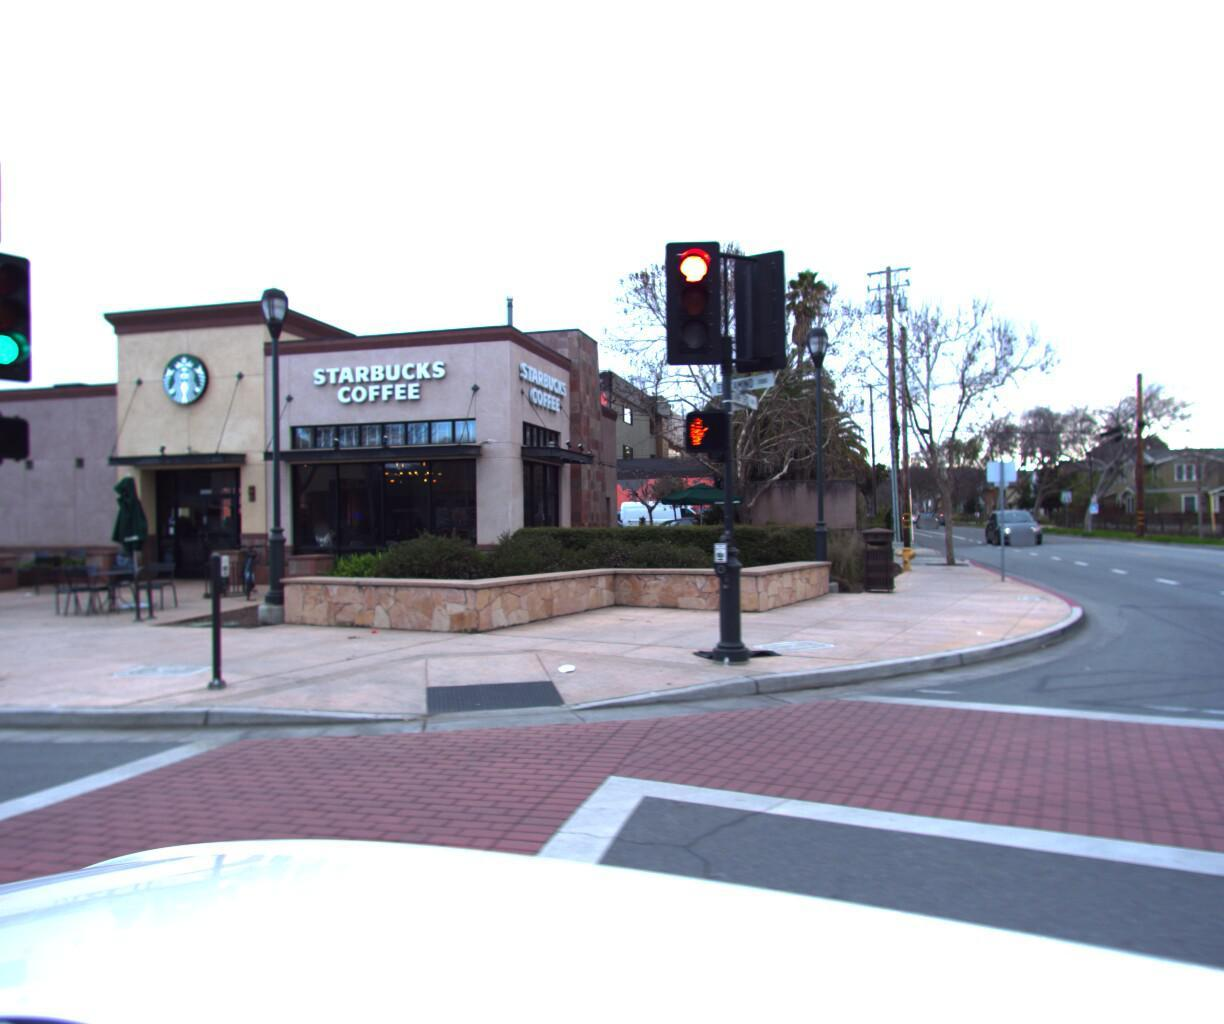bicycle: (226, 534, 274, 601)
car: (985, 508, 1040, 543)
